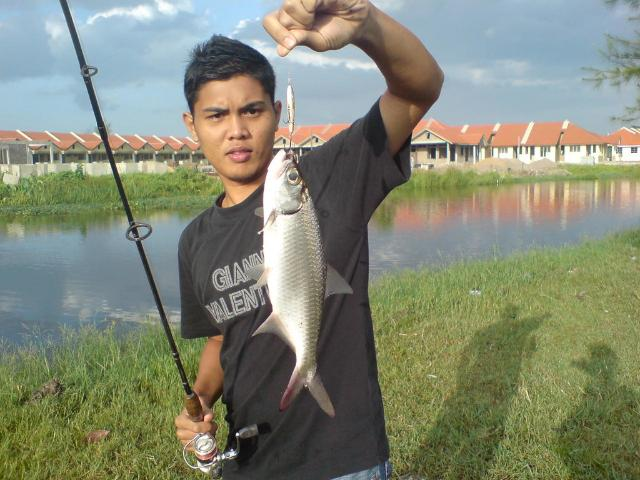Mulut: (272, 142, 306, 180)
Sirip Anal: (244, 313, 296, 355)
Sirip Dada: (242, 199, 288, 237)
Sirip Ekor: (270, 360, 346, 426)
Sirip Perut: (235, 252, 275, 306)
Sirip Punggung: (318, 256, 364, 312)
